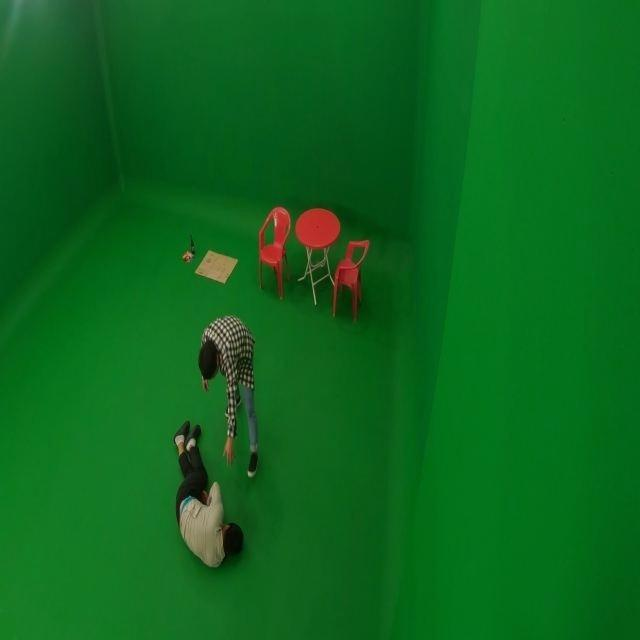fight: (170, 314, 258, 572)
